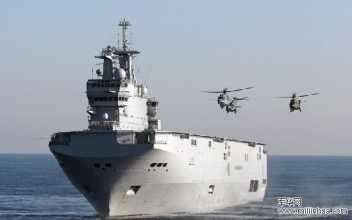airplane: (269, 83, 326, 115), (204, 84, 255, 116)
warship: (39, 16, 269, 214)
